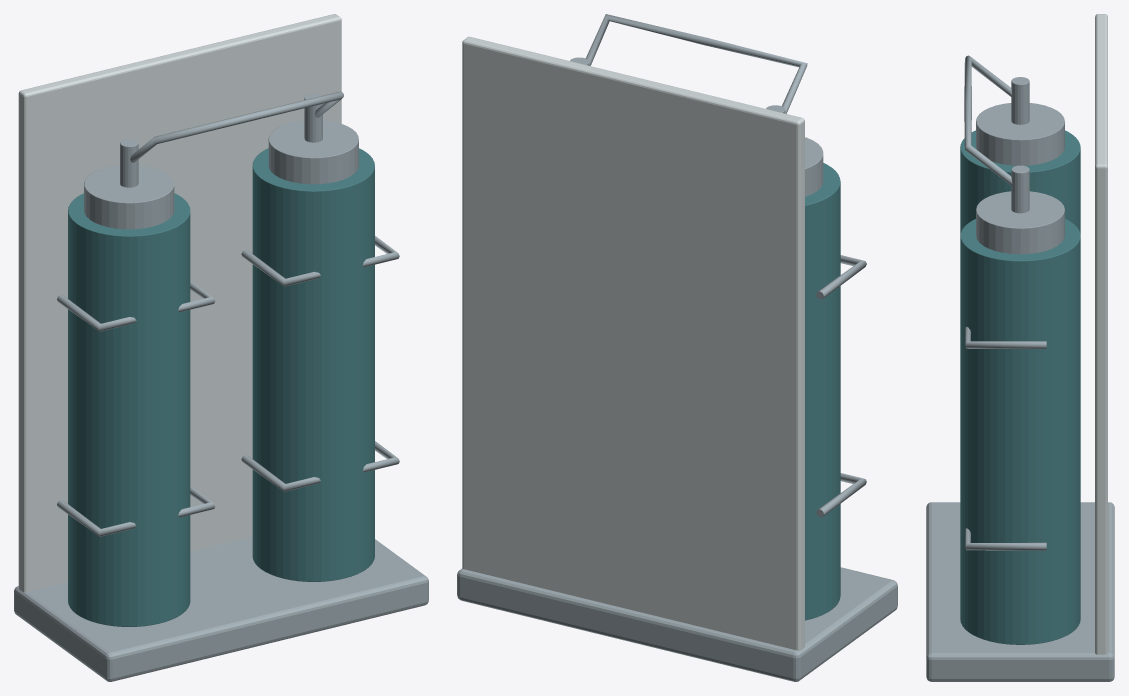
Rendered from RD_MedicalGasStation.fbx.
3 renders of one model, left to right at view 1: azimuth 30°, elevation 25°; view 2: azimuth 150°, elevation 25°; view 3: azimuth 270°, elevation 25°, orthographic. The views are drawn at different scales.
Parts seen in each view (by area): view 1: RD_MedicalGasStation; view 2: RD_MedicalGasStation; view 3: RD_MedicalGasStation.
Part boxes in pixels (x1,y1,x2,y2): RD_MedicalGasStation: (14, 14, 428, 681); RD_MedicalGasStation: (457, 14, 897, 681); RD_MedicalGasStation: (926, 14, 1114, 681).
Size of the model in its own units: 140 by 218 by 72.
